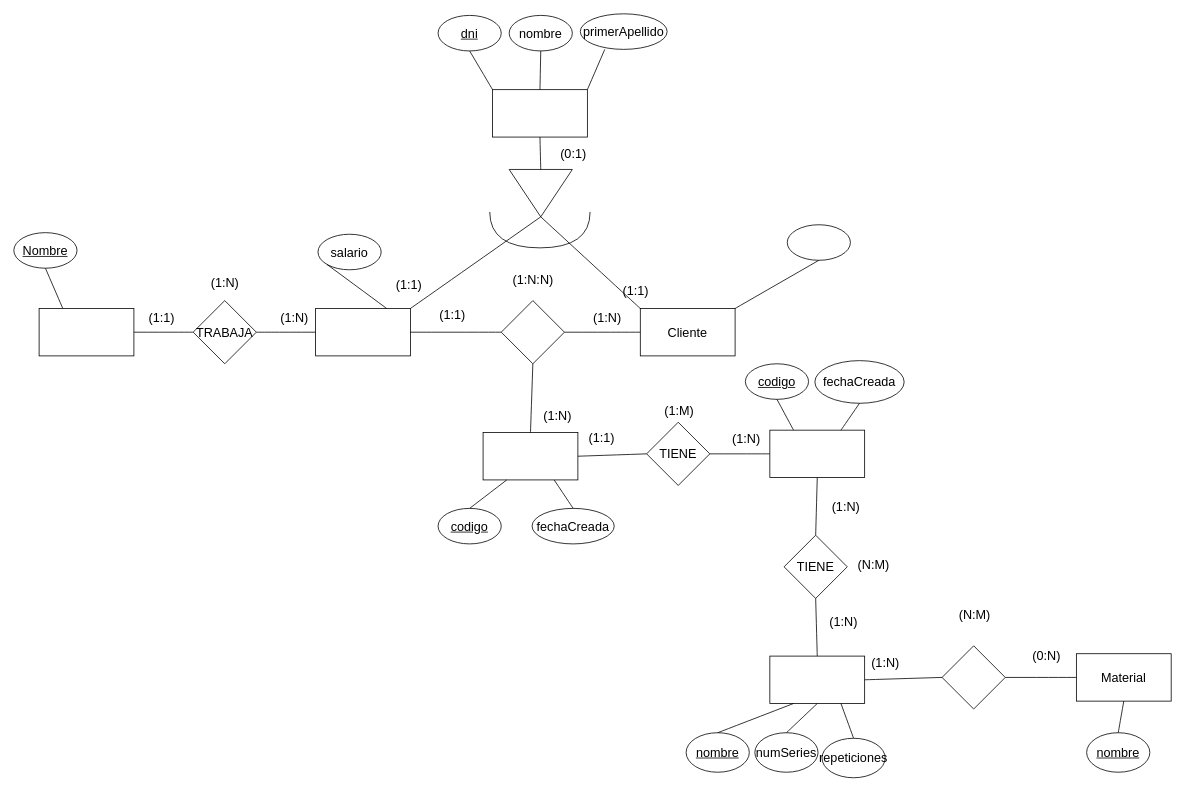
Image size: 1185x792. Some labels were removed from this diagram. Each missing label, with the box of its shape:
CREA: (500, 300, 564, 364)
Ejercicio: (769, 655, 865, 703)
Entrenador: (315, 308, 410, 356)
Entrenamiento: (769, 429, 865, 478)
fechaIns: (786, 224, 850, 260)
Gimnasio: (38, 308, 134, 356)
Persona: (492, 89, 587, 137)
Planificacion: (482, 432, 578, 480)
UTILIZA: (941, 645, 1005, 709)
